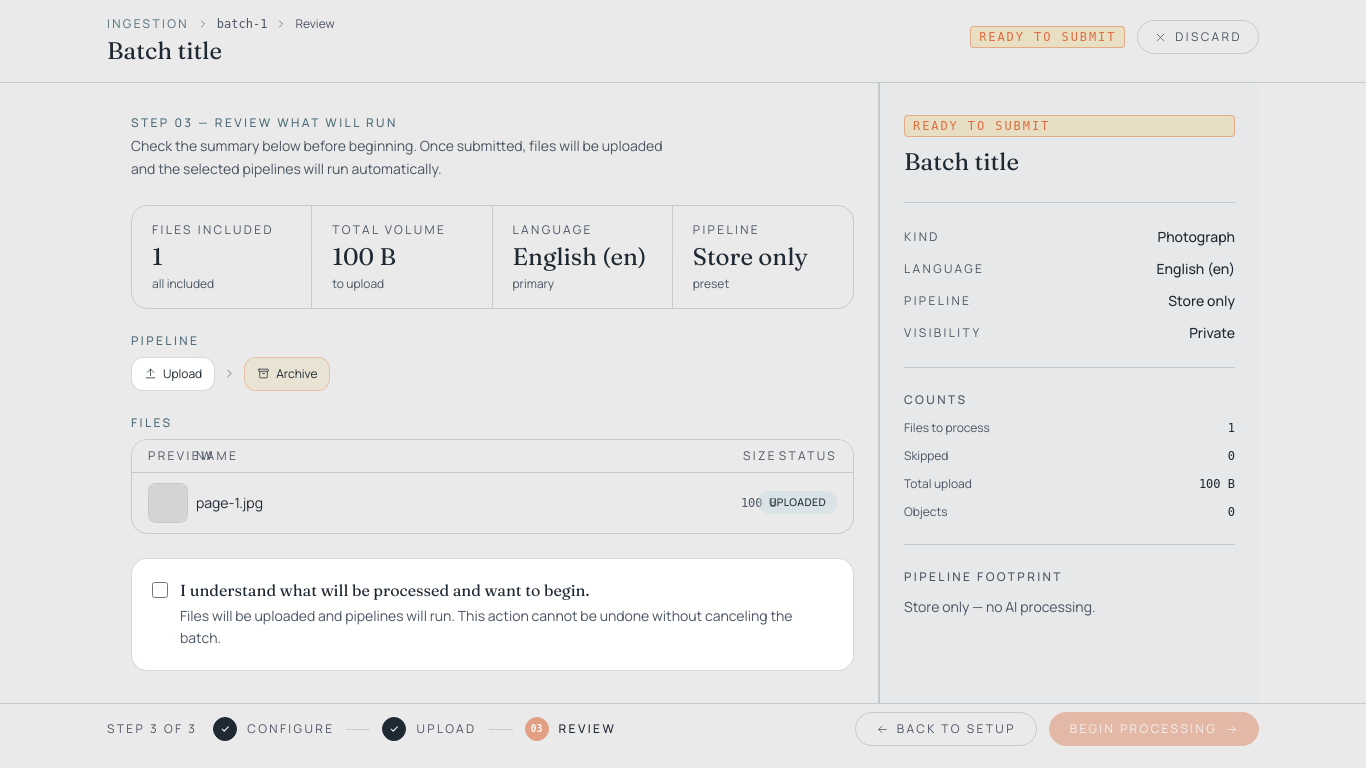
/ingestion/[batchId]/review +page.svelte › localizes a submit-time capability conflict and blocks retries
Click the checkbox at coordinates (160, 590), box x1=152 y1=582 x2=168 y2=598
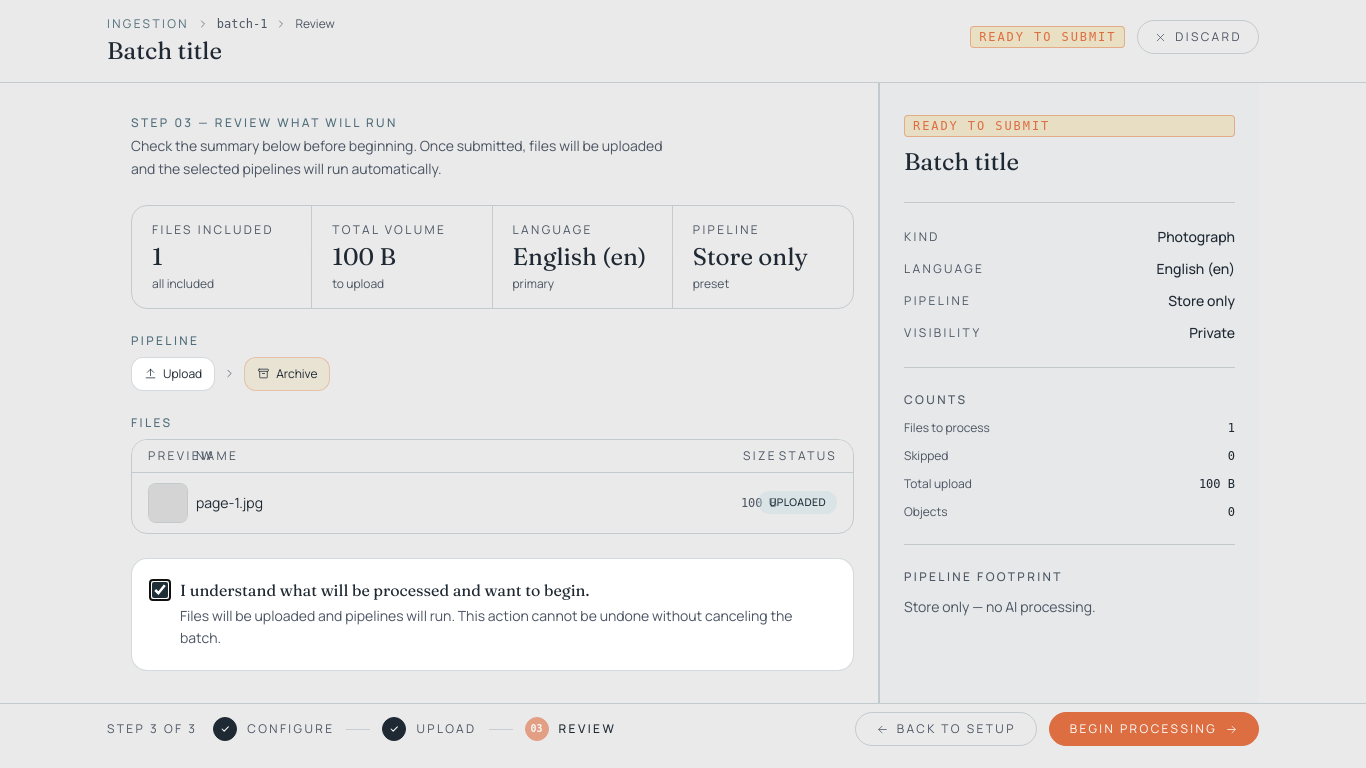
Click the button "Begin processing" at coordinates (1154, 729), box x1=1049 y1=712 x2=1259 y2=746
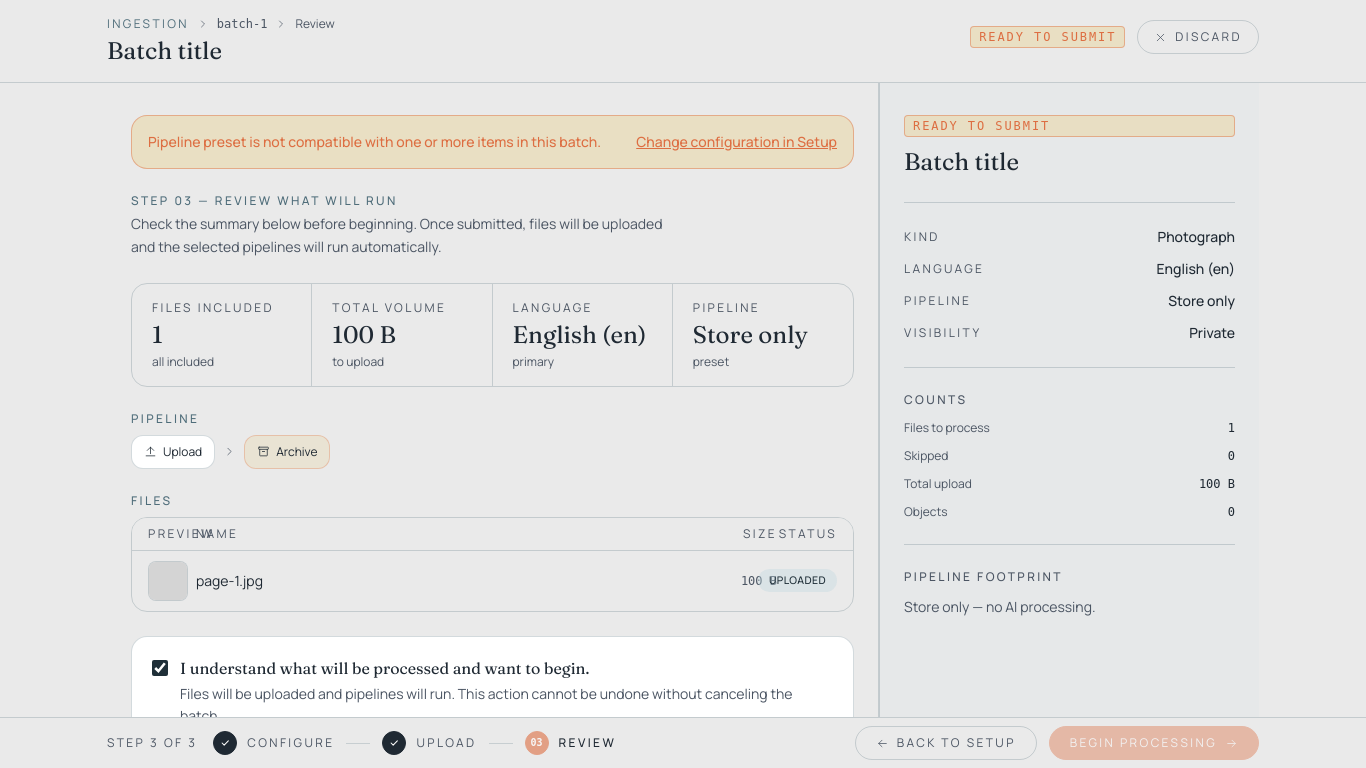
Expected: the button "Begin processing" is disabled, x1=1049 y1=726 x2=1259 y2=760
